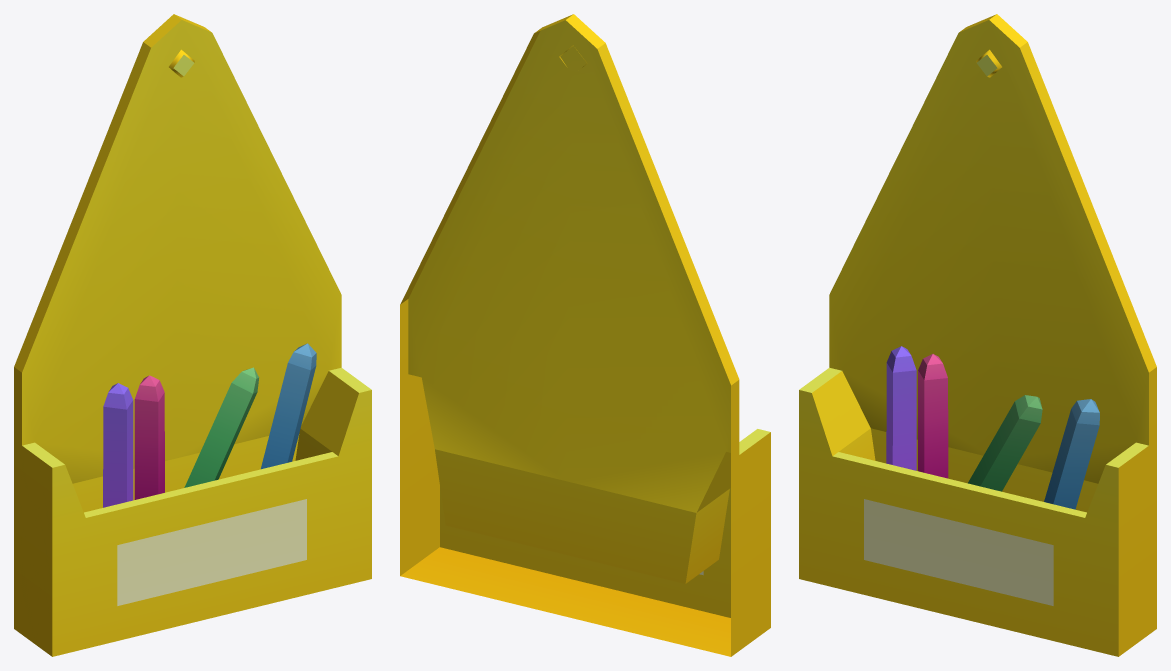
Rendered from CR_CrayonBox_001.FBX.
The picture shows the model from 3 angles, left to right: view 1: azimuth 30°, elevation 25°; view 2: azimuth 150°, elevation 25°; view 3: azimuth 330°, elevation 25°; orthographic projection. The views are drawn at different scales.
Parts seen in each view (by area): view 1: CR_CrayonBox_001; view 2: CR_CrayonBox_001; view 3: CR_CrayonBox_001.
Boxes of the visible parts, x1,y1,x2,y2 form: CR_CrayonBox_001: (14,14,371,656); CR_CrayonBox_001: (400,14,770,656); CR_CrayonBox_001: (799,14,1156,656).
Size of the model in its own units: 10.46 by 18 by 2.17.
Materials: 1 (1 with a texture image).
